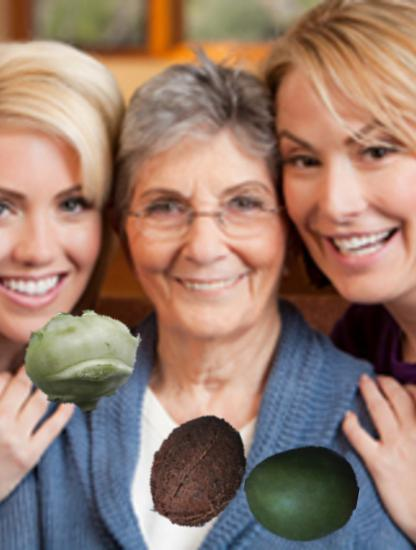Cocos: (138, 411, 257, 530)
Kohlrabi: (23, 299, 146, 422)
Mango: (244, 435, 359, 550)
